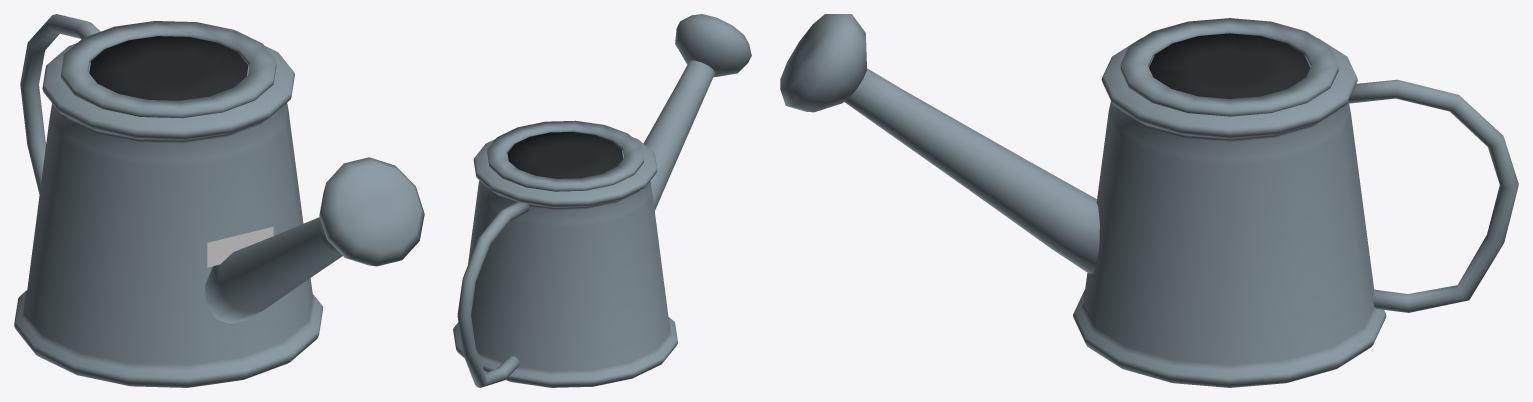
File: heldout_watering_can.glb
3 renders of one model, left to right at view 1: azimuth 30°, elevation 25°; view 2: azimuth 150°, elevation 25°; view 3: azimuth 270°, elevation 25°, orthographic. The views are drawn at different scales.
Parts seen in each view (by area): view 1: Connected_Vessel, Opening_Rim, Rose_Head, Opening_Shadow, Connected_Tapered_Spout, Arched_Handle, WateringCan_Baked_Badge; view 2: Connected_Vessel, Opening_Rim, Opening_Shadow, Connected_Tapered_Spout, Arched_Handle, Rose_Head; view 3: Connected_Vessel, Connected_Tapered_Spout, Opening_Rim, Opening_Shadow, Arched_Handle, Rose_Head.
Part boxes in pixels (x1=…): Connected_Vessel: x1=14, y1=43, x2=323, y2=387; Opening_Rim: x1=61, y1=21, x2=276, y2=118; Rose_Head: x1=319, y1=157, x2=424, y2=266; Opening_Shadow: x1=89, y1=36, x2=248, y2=100; Connected_Tapered_Spout: x1=205, y1=217, x2=342, y2=323; Arched_Handle: x1=20, y1=14, x2=100, y2=194; WateringCan_Baked_Badge: x1=207, y1=226, x2=273, y2=267; Connected_Vessel: x1=453, y1=137, x2=677, y2=387; Opening_Rim: x1=487, y1=120, x2=643, y2=191; Opening_Shadow: x1=507, y1=132, x2=623, y2=178; Connected_Tapered_Spout: x1=643, y1=60, x2=714, y2=210; Arched_Handle: x1=457, y1=201, x2=529, y2=387; Rose_Head: x1=675, y1=14, x2=751, y2=77; Connected_Vessel: x1=1073, y1=38, x2=1386, y2=387; Connected_Tapered_Spout: x1=844, y1=68, x2=1099, y2=273; Opening_Rim: x1=1120, y1=18, x2=1338, y2=116; Opening_Shadow: x1=1149, y1=33, x2=1310, y2=98; Arched_Handle: x1=1347, y1=79, x2=1518, y2=312; Rose_Head: x1=780, y1=14, x2=866, y2=112.
Bounding box in the file's own units: 3.42 × 3.71 × 8.05.
